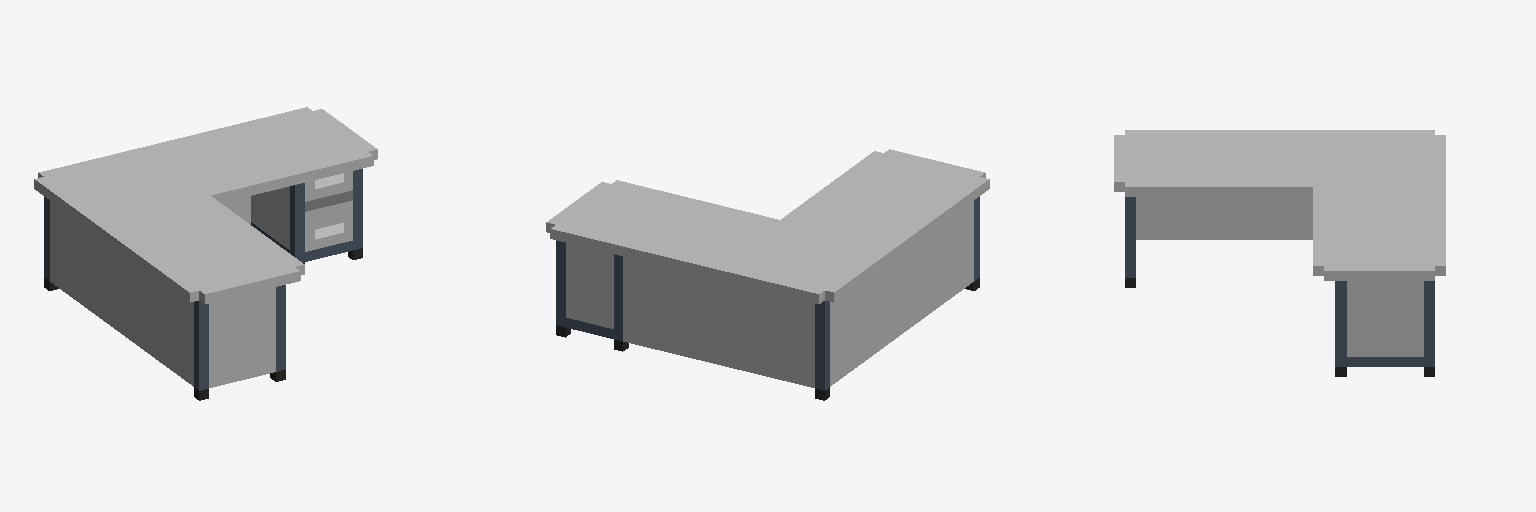
The picture shows the model from 3 angles: view 1: azimuth 30°, elevation 25°; view 2: azimuth 150°, elevation 25°; view 3: azimuth 270°, elevation 25°; orthographic projection.
Parts seen in each view (by area): view 1: object 1; view 2: object 1; view 3: object 1.
Part boxes in pixels (left/top/right/bottom): object 1: left=34, top=107, right=377, bottom=400; object 1: left=546, top=149, right=989, bottom=400; object 1: left=1114, top=130, right=1445, bottom=376.
Bounding box in the file's own units: 3 × 1.1 × 3.
1 materials, 1 textured.